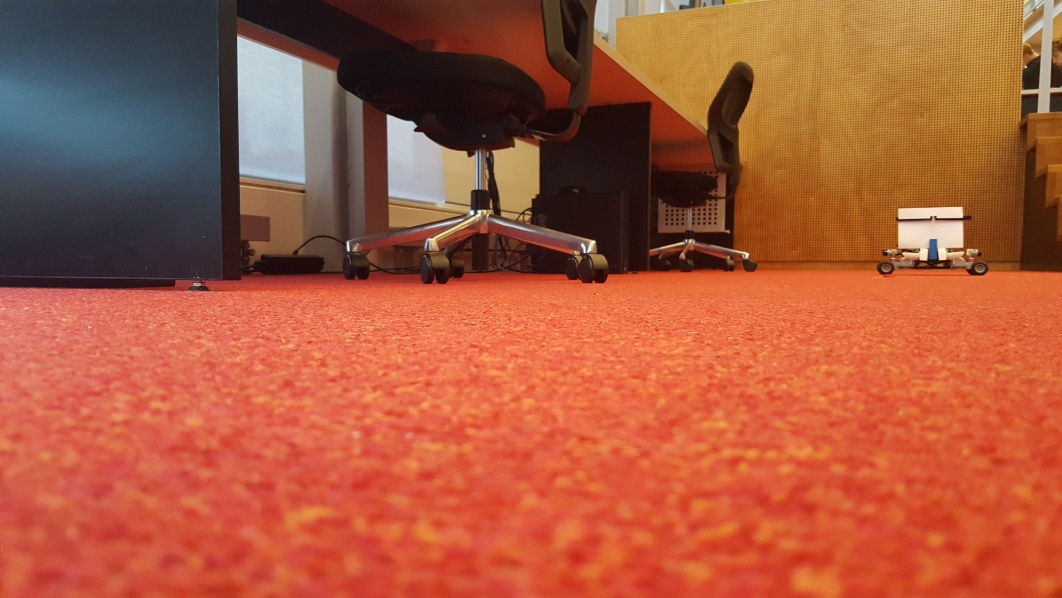car: (875, 205, 990, 275)
